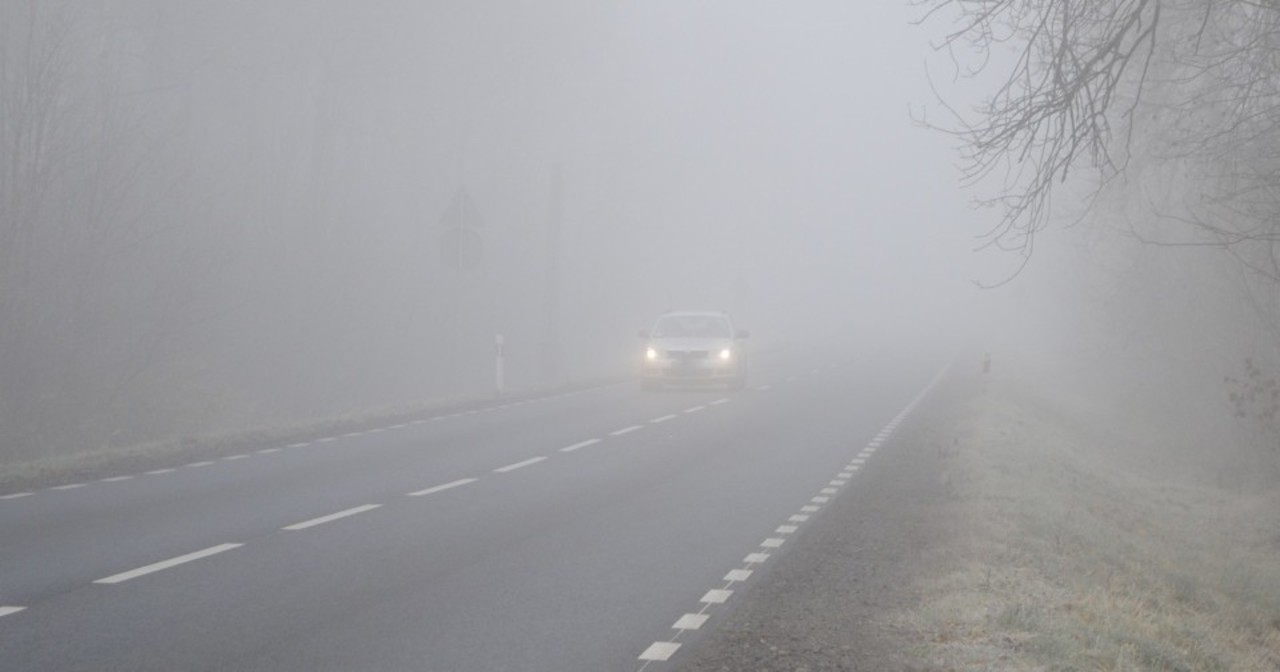car: (638, 309, 746, 391)
